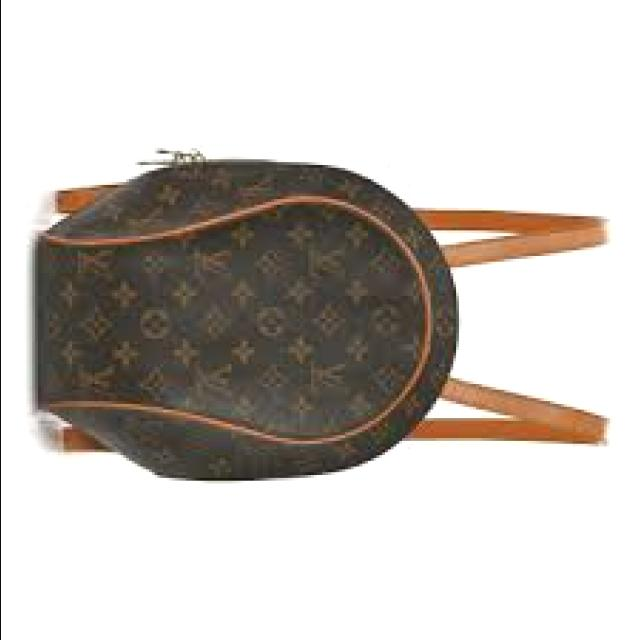backpack: (36, 149, 616, 482)
